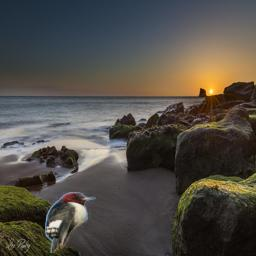Woodpecker: (45, 192, 96, 253)
